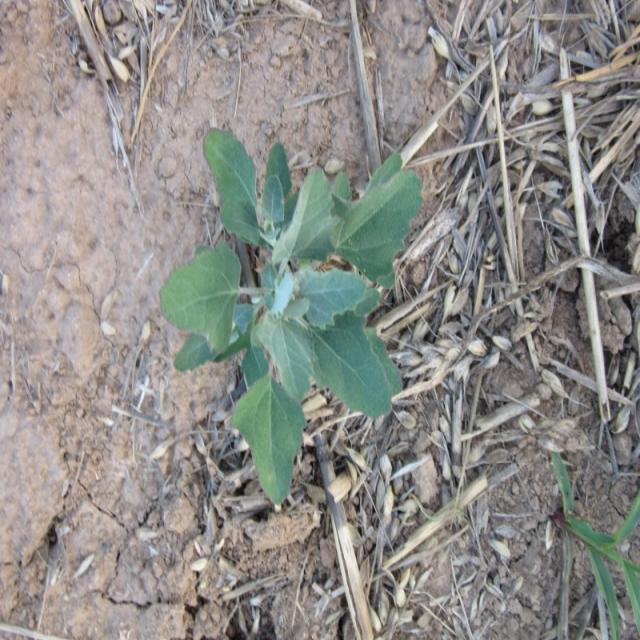ca: (164, 123, 424, 512)
